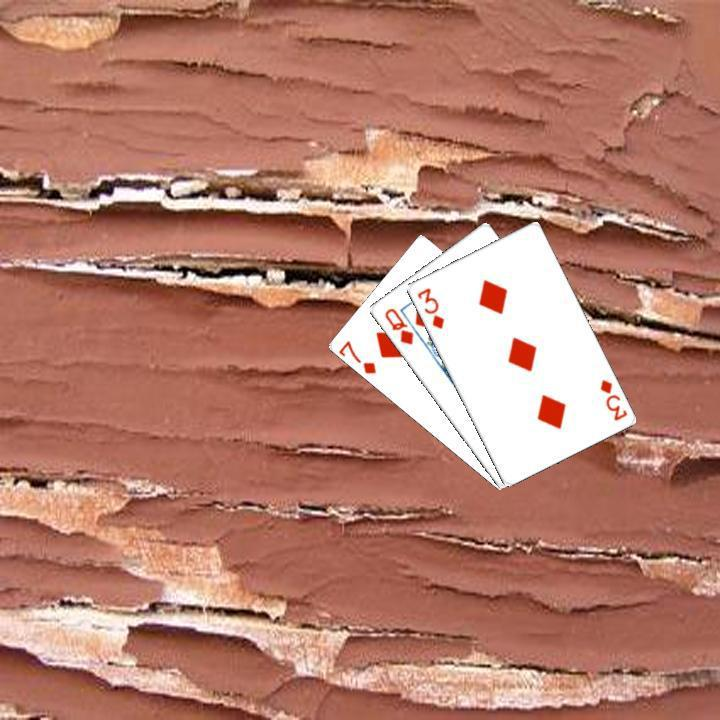3: (412, 283, 446, 331), (595, 375, 629, 423)
7: (335, 336, 378, 376)
Q: (380, 303, 415, 347)
